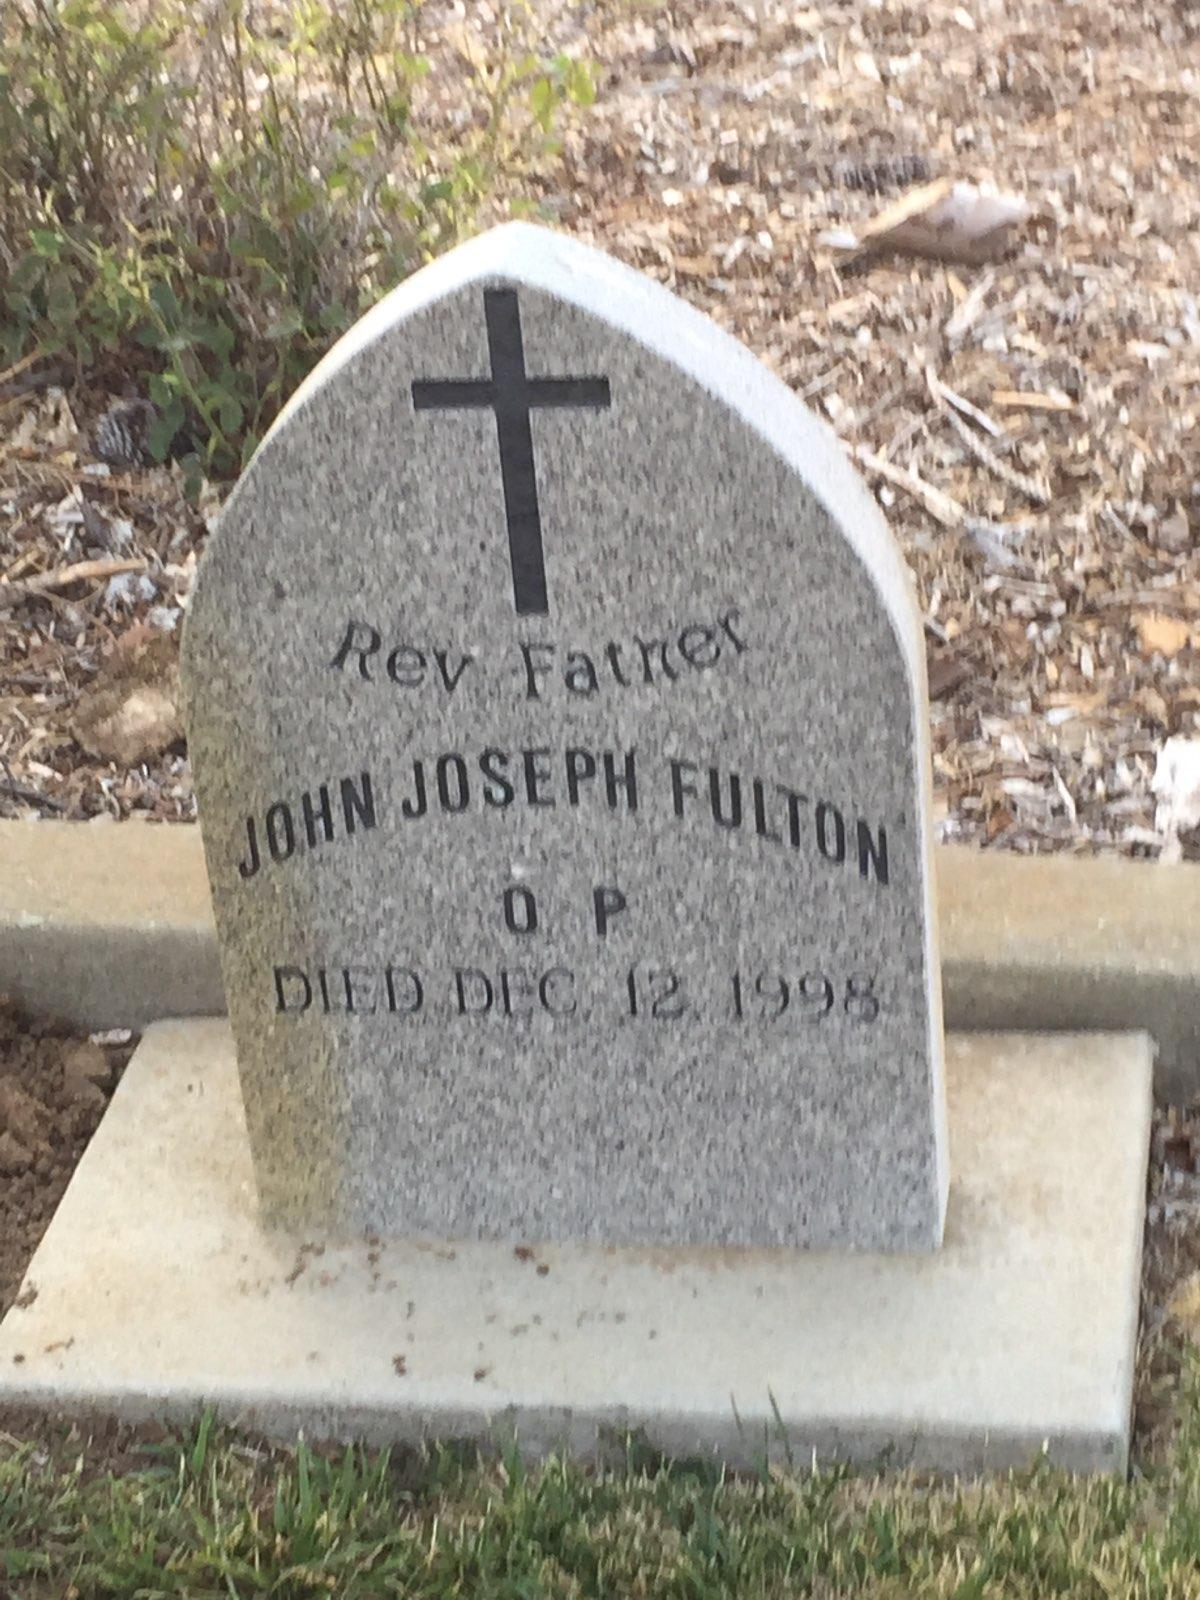upright: (171, 217, 957, 1255)
